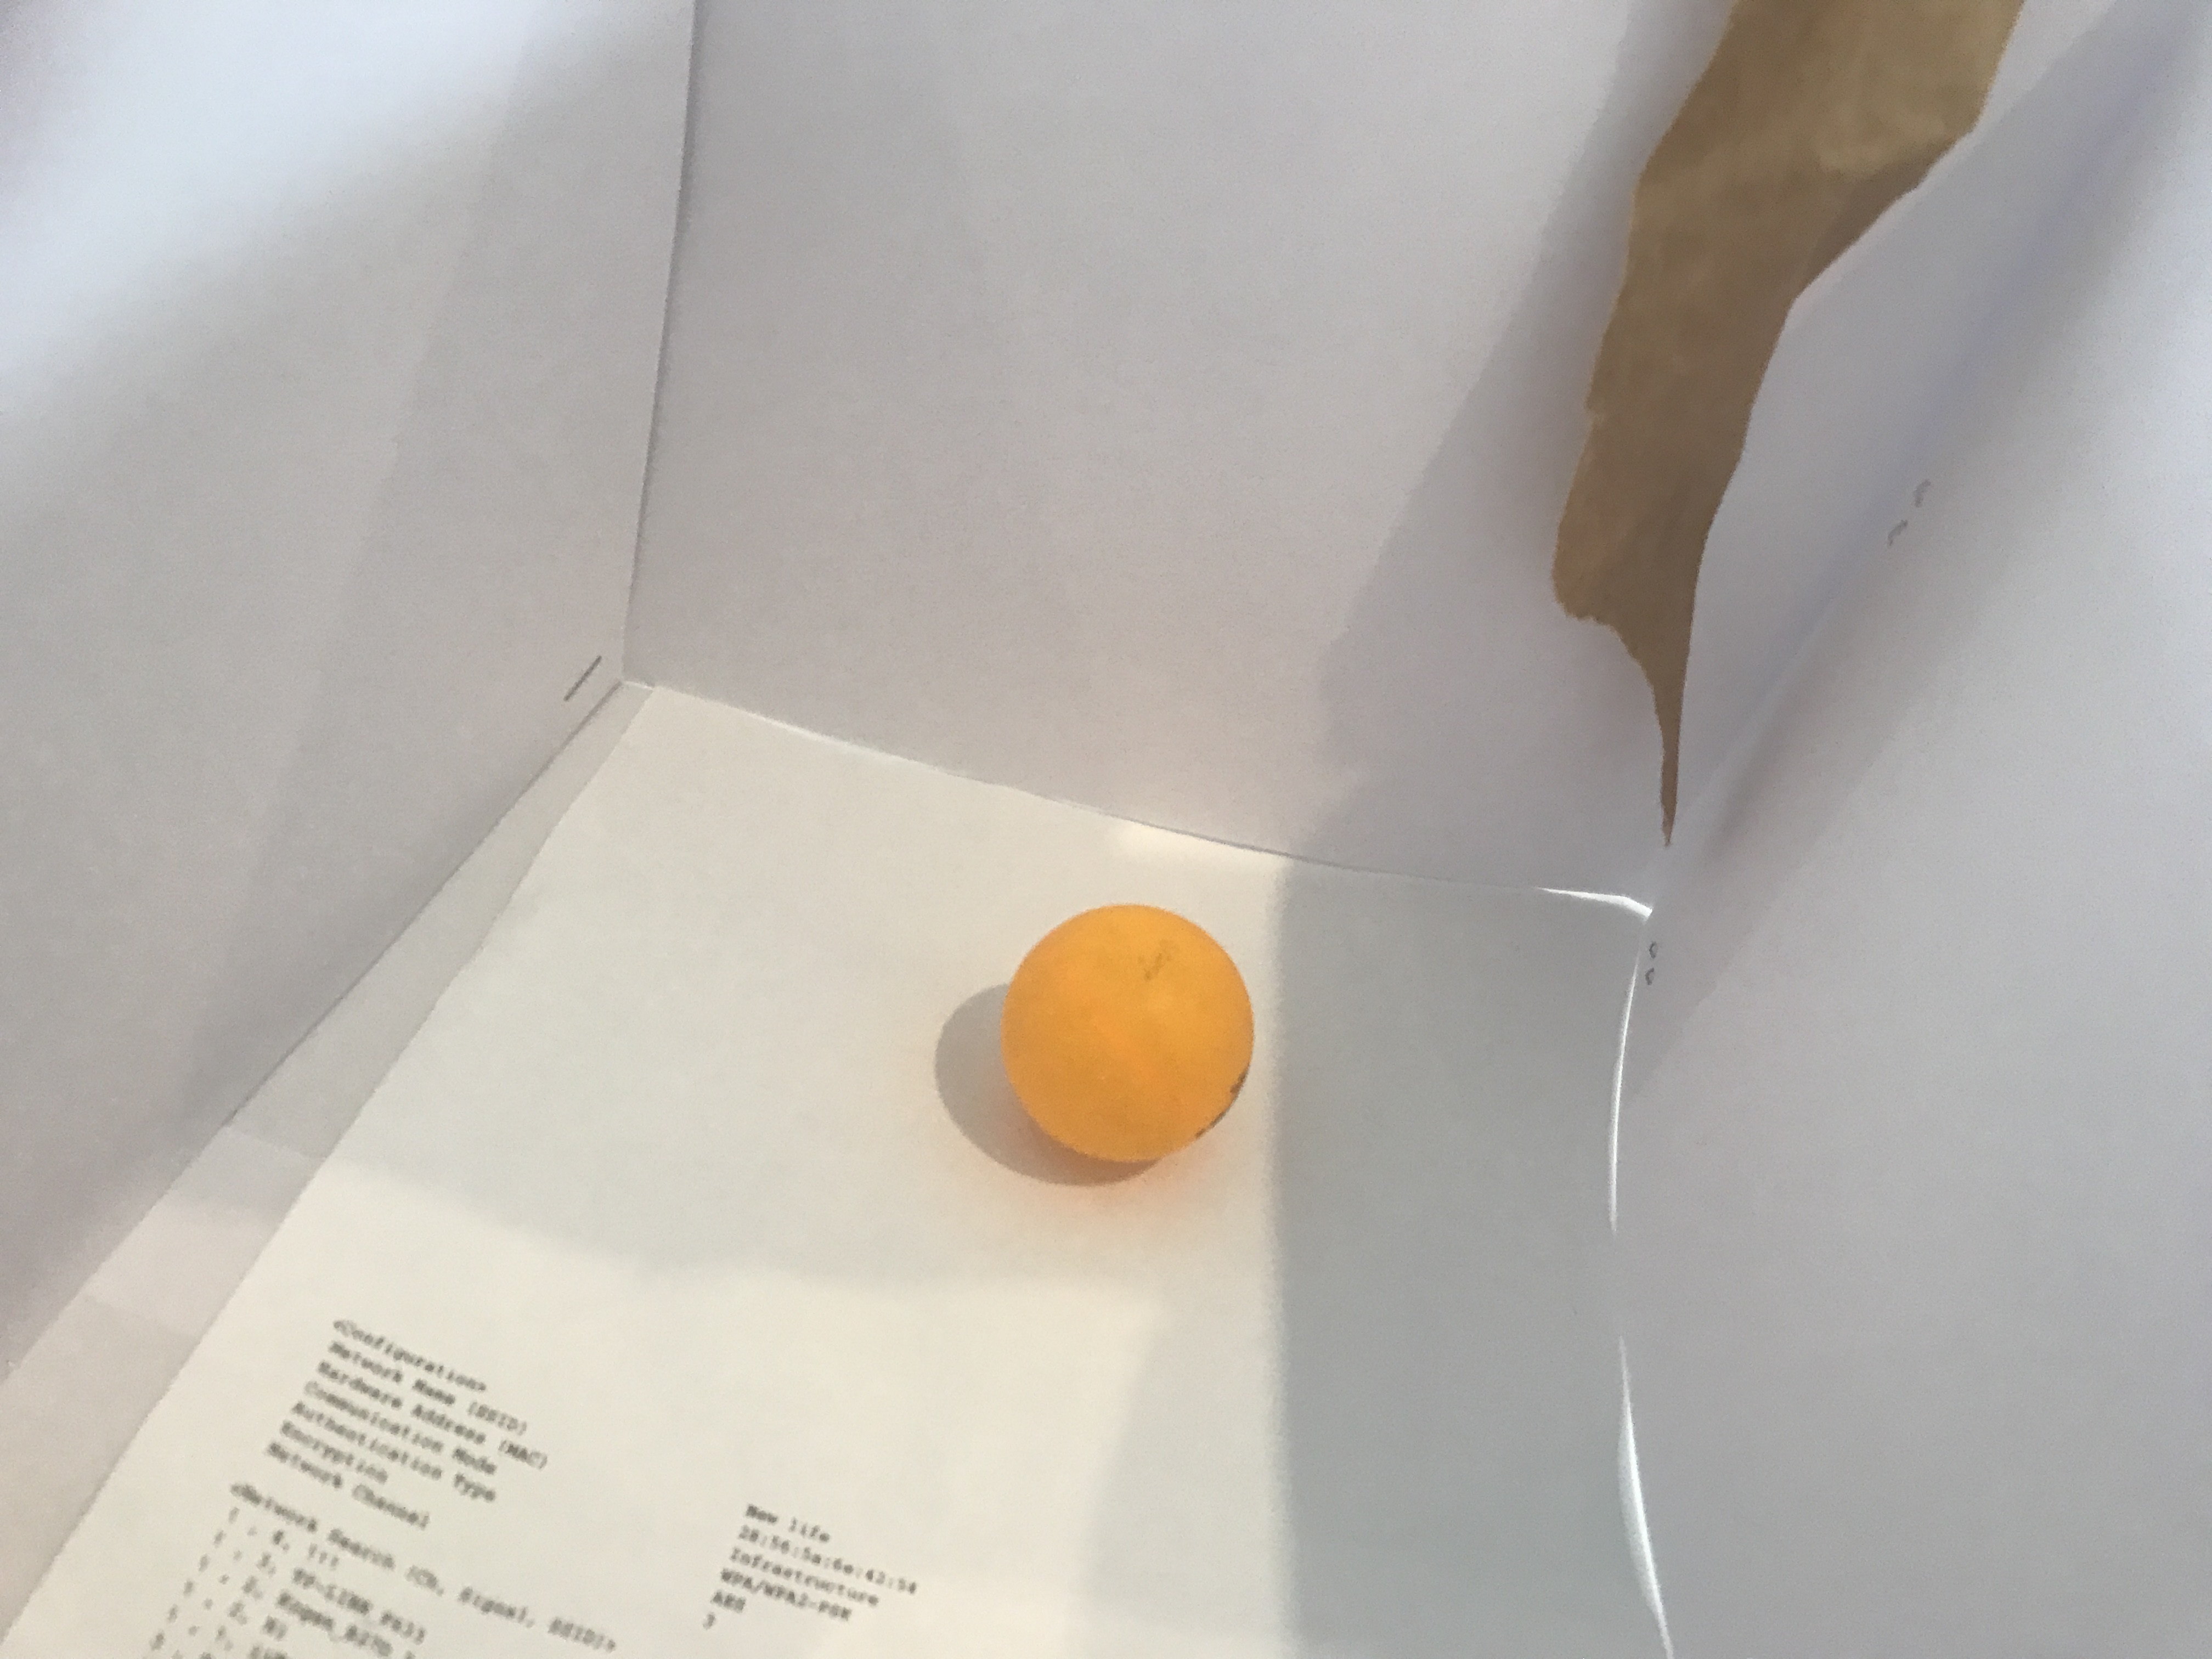pp: (998, 896, 1261, 1178)
